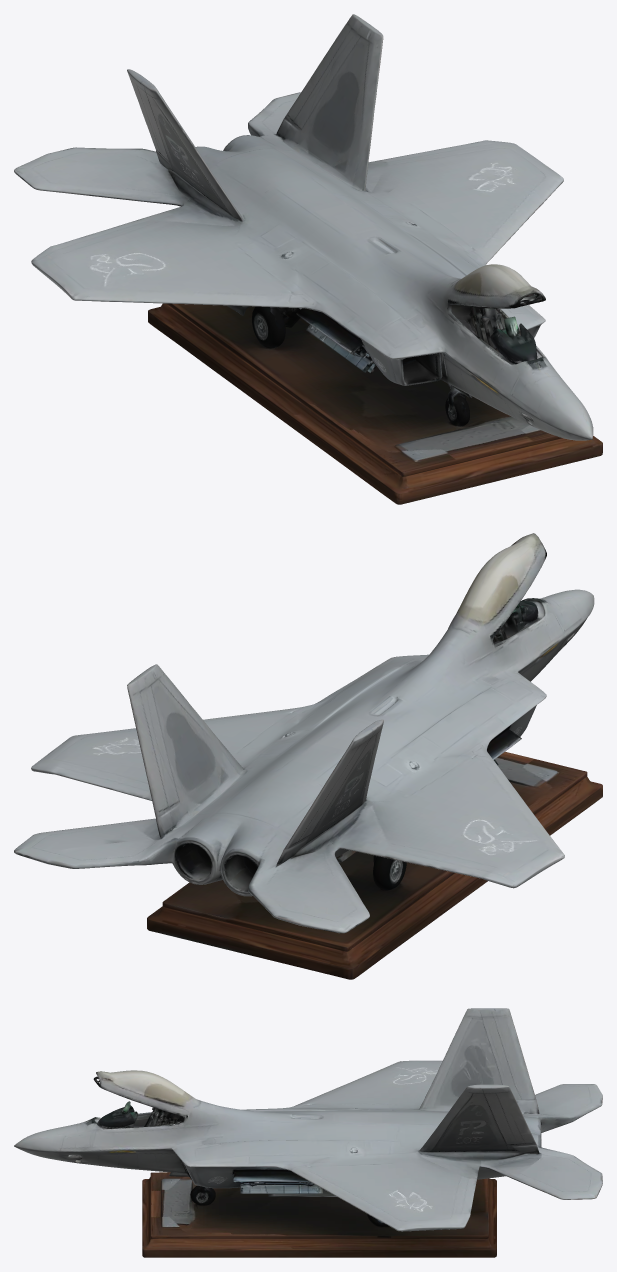
Rendered from f-22 raptor.glb.
The picture shows the model from 3 angles, top to bottom: view 1: azimuth 30°, elevation 25°; view 2: azimuth 150°, elevation 25°; view 3: azimuth 270°, elevation 25°; orthographic projection. The views are drawn at different scales.
Visible parts, largest first — view 1: node_0; view 2: node_0; view 3: node_0.
Part boxes in pixels (x1,y1,x2,y2): node_0: [14, 14, 602, 504]; node_0: [14, 533, 602, 979]; node_0: [14, 1008, 602, 1257].
Bounding box in the file's own units: 0.7547 × 0.3659 × 1.11.
1 material, 1 textured.
